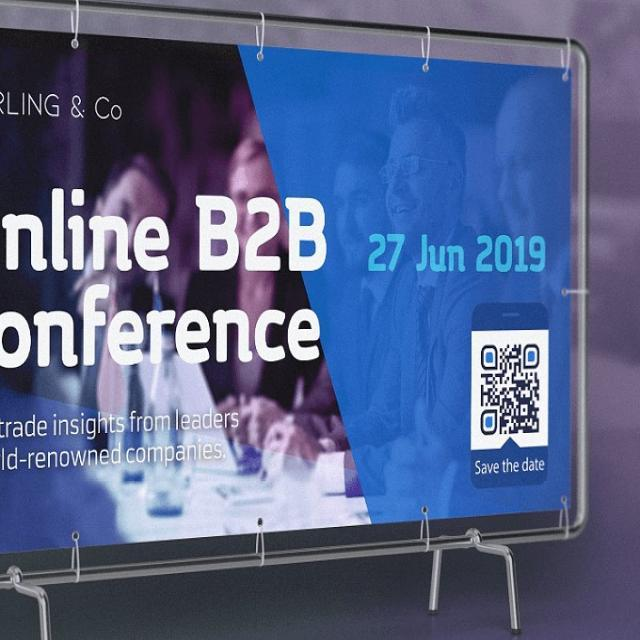qr_code: (481, 343, 539, 435)
